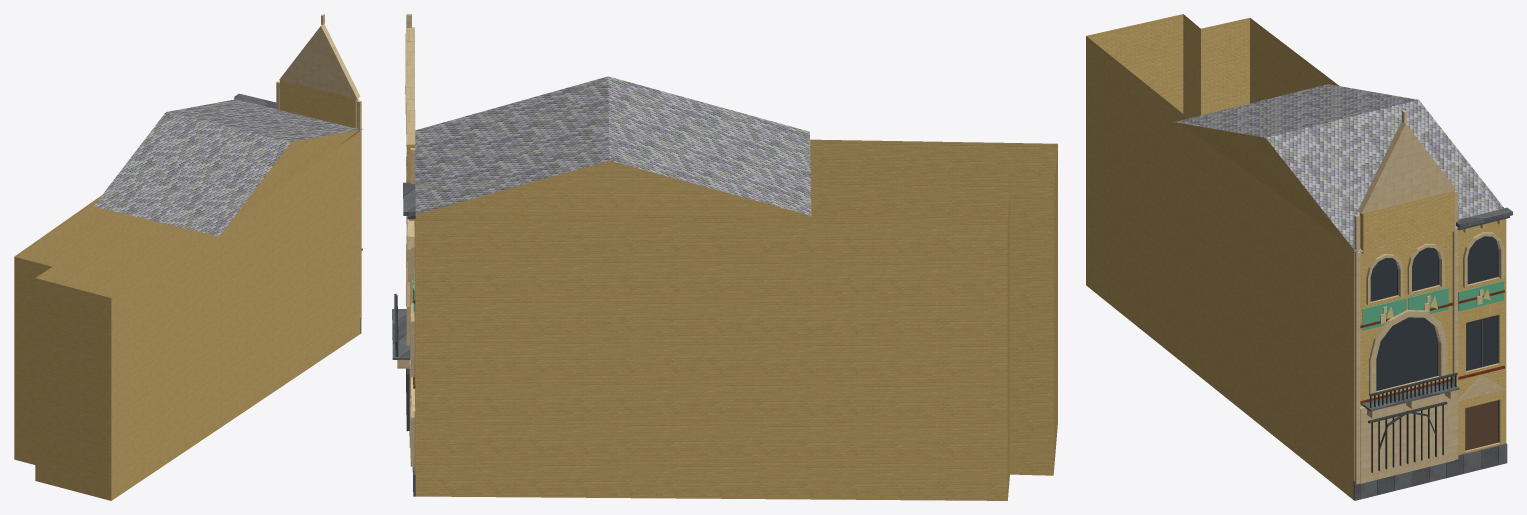
3 views of the same model, side by side, from view 1: azimuth 30°, elevation 25°; view 2: azimuth 150°, elevation 25°; view 3: azimuth 270°, elevation 25° (orthographic). The views are drawn at different scales.
Parts seen in each view (by area): view 1: bldg_501637651_landmark; view 2: bldg_501637651_landmark; view 3: bldg_501637651_landmark.
Part boxes in pixels (<box>): bldg_501637651_landmark: <box>14,14,362,500</box>; bldg_501637651_landmark: <box>392,14,1057,500</box>; bldg_501637651_landmark: <box>1086,14,1512,500</box>.
Size of the model in its own units: 22.91 by 16.7 by 17.05.
Materials: 12 (6 with a texture image).
